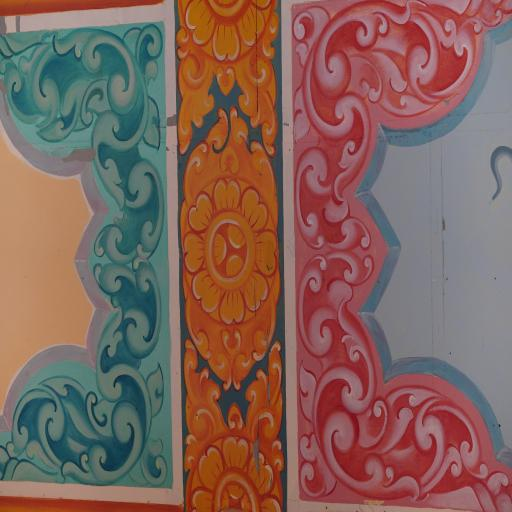hoa: (182, 182, 280, 322), (184, 440, 281, 512), (178, 0, 279, 56)
la: (293, 252, 512, 511), (292, 0, 512, 252), (0, 22, 172, 263), (1, 262, 172, 484), (183, 298, 285, 388), (178, 101, 282, 188), (234, 345, 290, 464), (184, 337, 227, 465), (232, 55, 283, 155), (178, 54, 213, 154)
